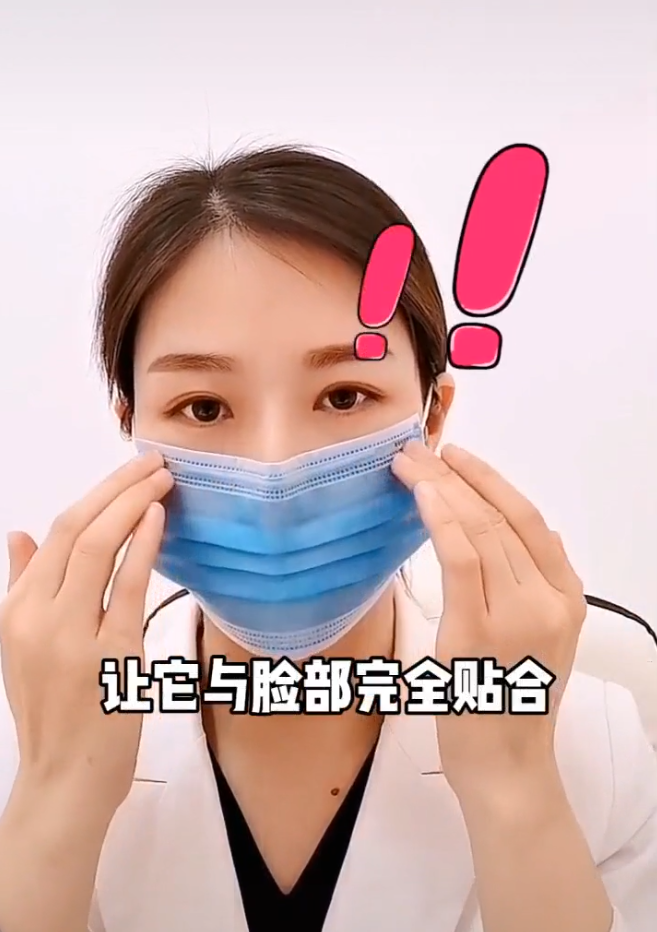face_mask: (130, 260, 428, 650)
